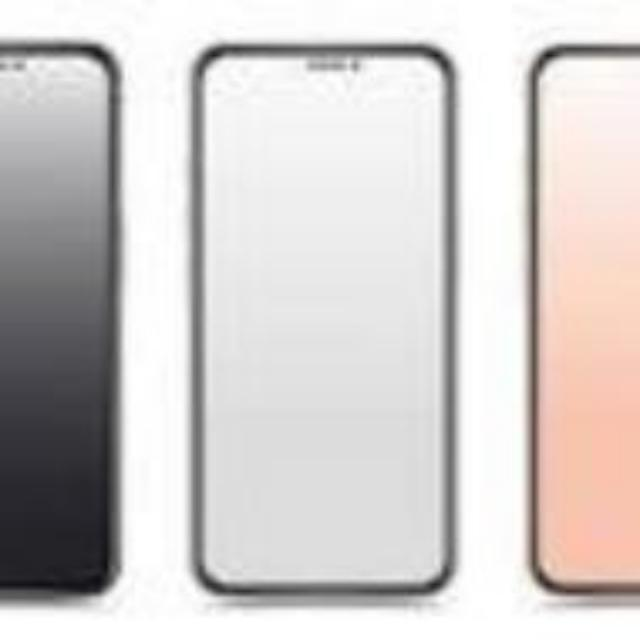phone: (189, 42, 453, 598), (0, 34, 128, 607), (526, 33, 640, 609)
